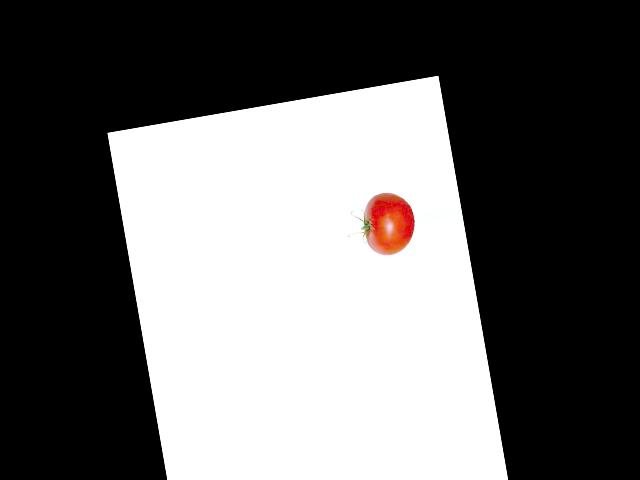tomato: (358, 188, 420, 259)
